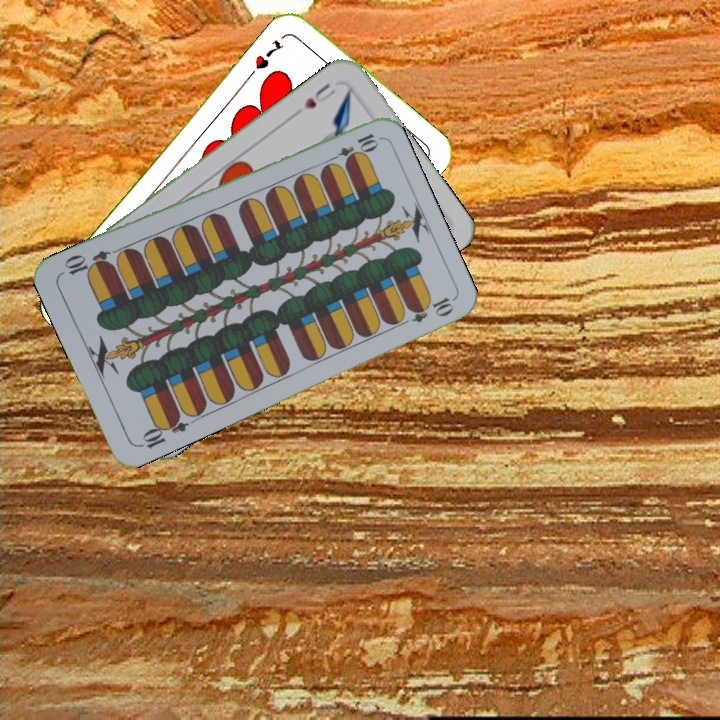E10: (135, 409, 190, 451), (324, 129, 380, 167)
H7: (251, 35, 287, 72)
HU: (299, 79, 338, 112)
